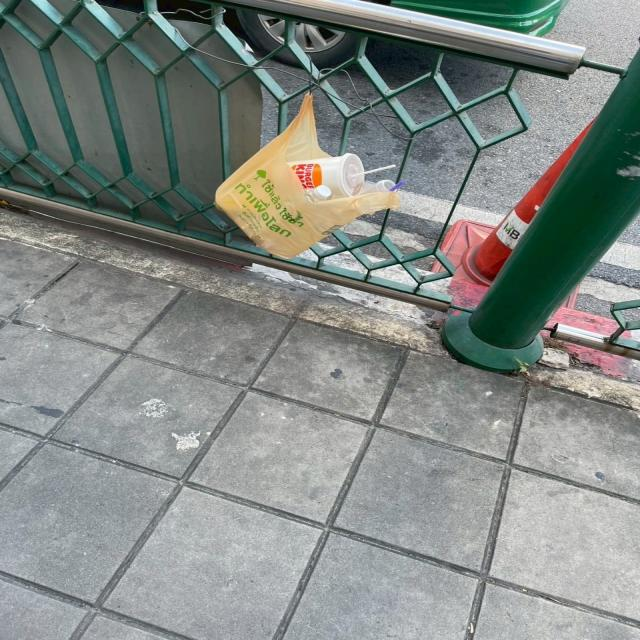paper cup: (282, 155, 376, 190)
